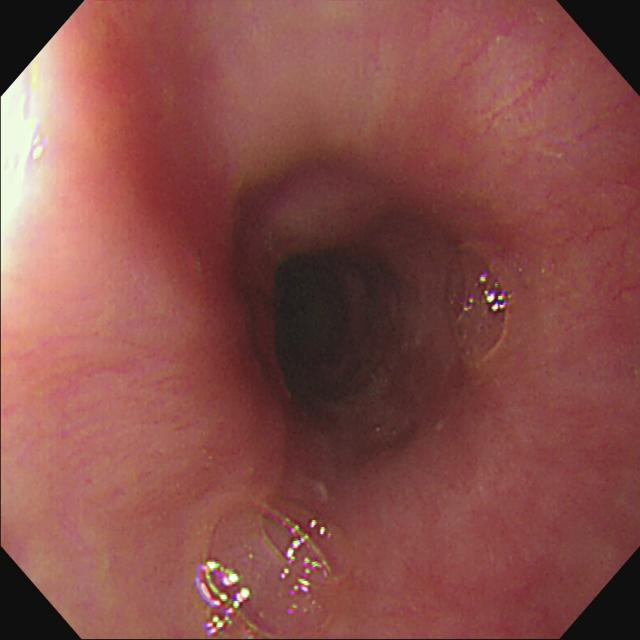E: (278, 254, 385, 391)
T: (194, 495, 347, 640), (446, 246, 515, 366)
U: (196, 562, 252, 637), (292, 557, 325, 598), (484, 288, 508, 313)
